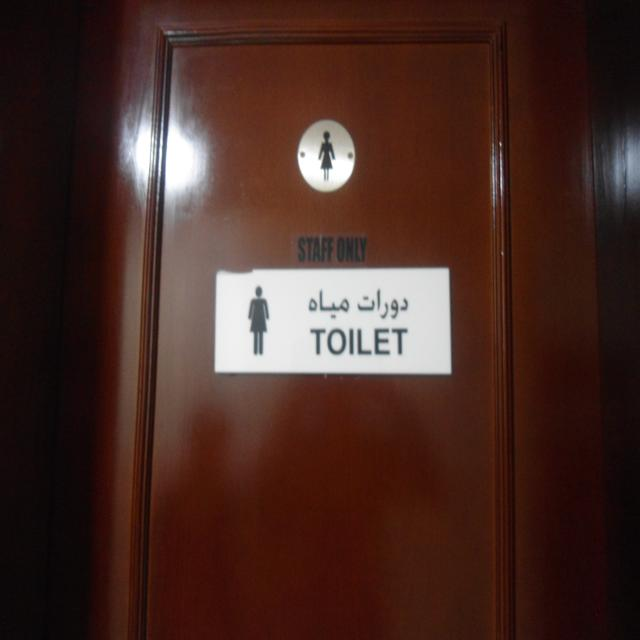door: (569, 267, 570, 272)
sign: (139, 28, 512, 637), (215, 268, 451, 375), (298, 120, 355, 192)
